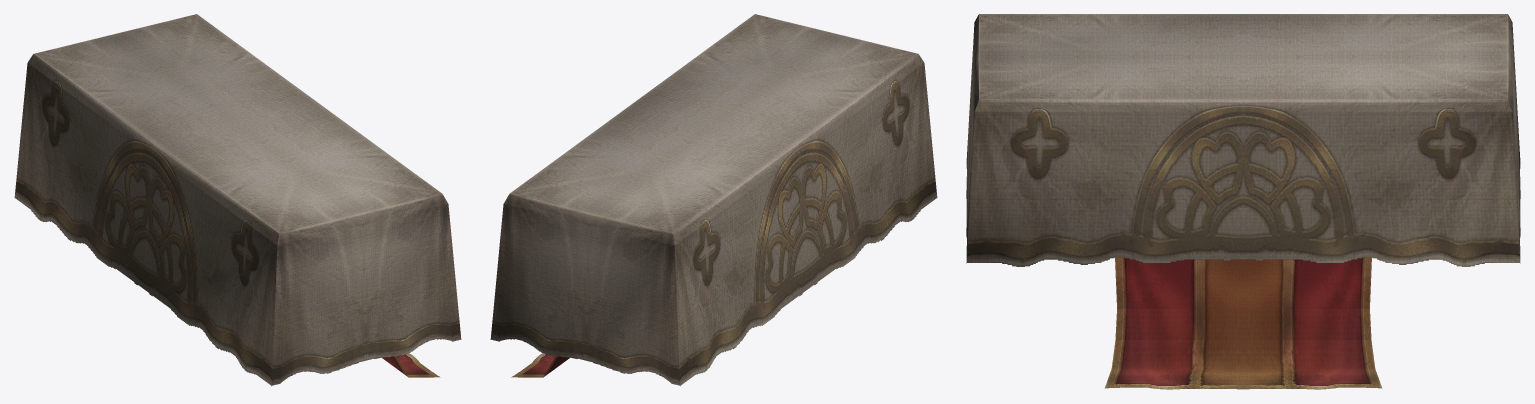
Rendered from bg_lut_lucastle_churchinprop03_sm_ysi.FBX.
3 views of the same model, side by side, from view 1: azimuth 30°, elevation 25°; view 2: azimuth 150°, elevation 25°; view 3: azimuth 270°, elevation 25° (orthographic). The views are drawn at different scales.
Visible parts, largest first — view 1: bg_lut_lucastle_churchinprop03_sm_ysi; view 2: bg_lut_lucastle_churchinprop03_sm_ysi; view 3: bg_lut_lucastle_churchinprop03_sm_ysi.
Part boxes in pixels (x1=…): bg_lut_lucastle_churchinprop03_sm_ysi: x1=14, y1=14, x2=461, y2=386; bg_lut_lucastle_churchinprop03_sm_ysi: x1=490, y1=14, x2=937, y2=386; bg_lut_lucastle_churchinprop03_sm_ysi: x1=966, y1=14, x2=1520, y2=389.
Bounding box in the file's own units: 111 × 108 × 209.
